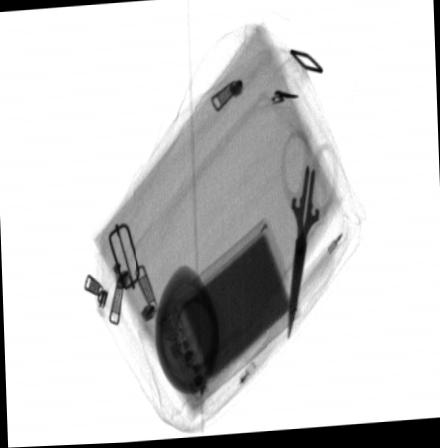Powerbank: (146, 219, 300, 423)
Scissors: (275, 127, 338, 343)
